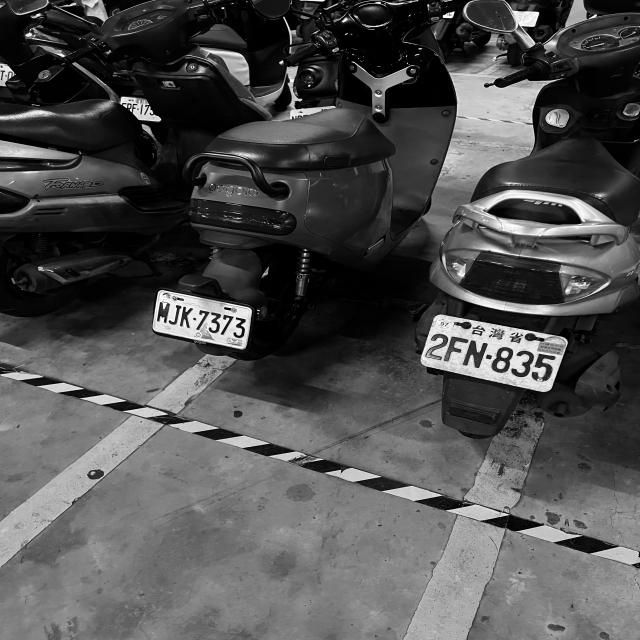-: (485, 352, 494, 361), (192, 316, 197, 321)
2: (423, 332, 451, 362)
3: (508, 349, 537, 380), (234, 314, 248, 338), (208, 310, 220, 333)
5: (528, 352, 559, 385)
7: (222, 313, 234, 337), (196, 308, 209, 330)
8: (489, 344, 517, 375)
F: (443, 334, 470, 366)
J: (168, 304, 184, 326)
K: (179, 306, 195, 329)
M: (156, 301, 173, 324)
N: (461, 339, 490, 370)
plate: (419, 315, 568, 392), (149, 291, 252, 347)
